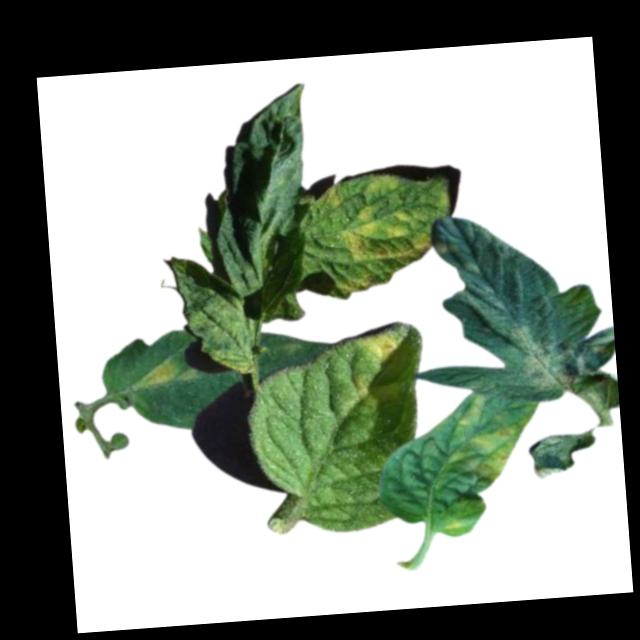Leaf_Mold: (334, 204, 436, 297), (446, 390, 532, 485), (501, 320, 579, 392), (353, 328, 397, 363), (135, 358, 180, 388), (318, 184, 341, 212), (350, 372, 366, 396)
